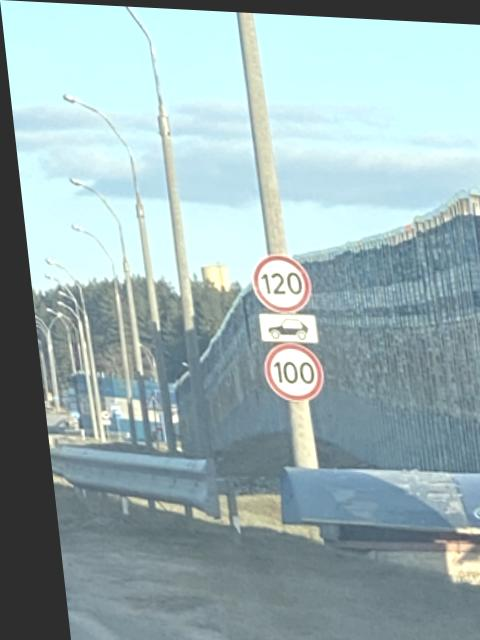limit100: (251, 339, 320, 402)
limit120: (238, 247, 311, 314)
